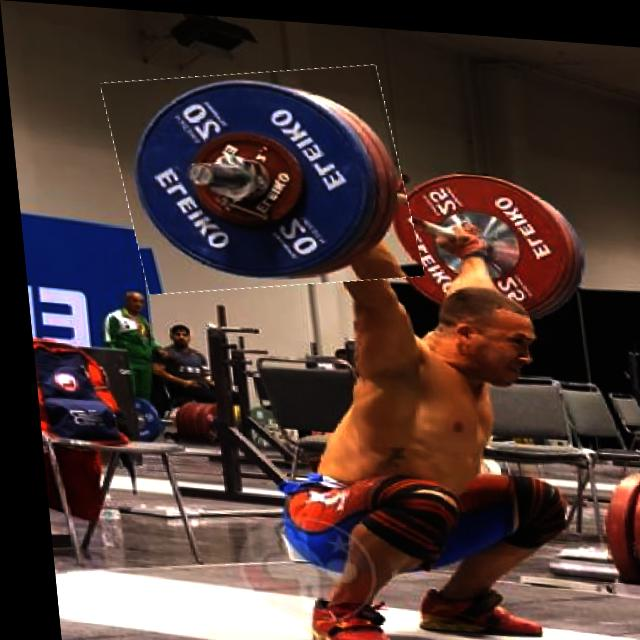barbell: (104, 54, 416, 300)
